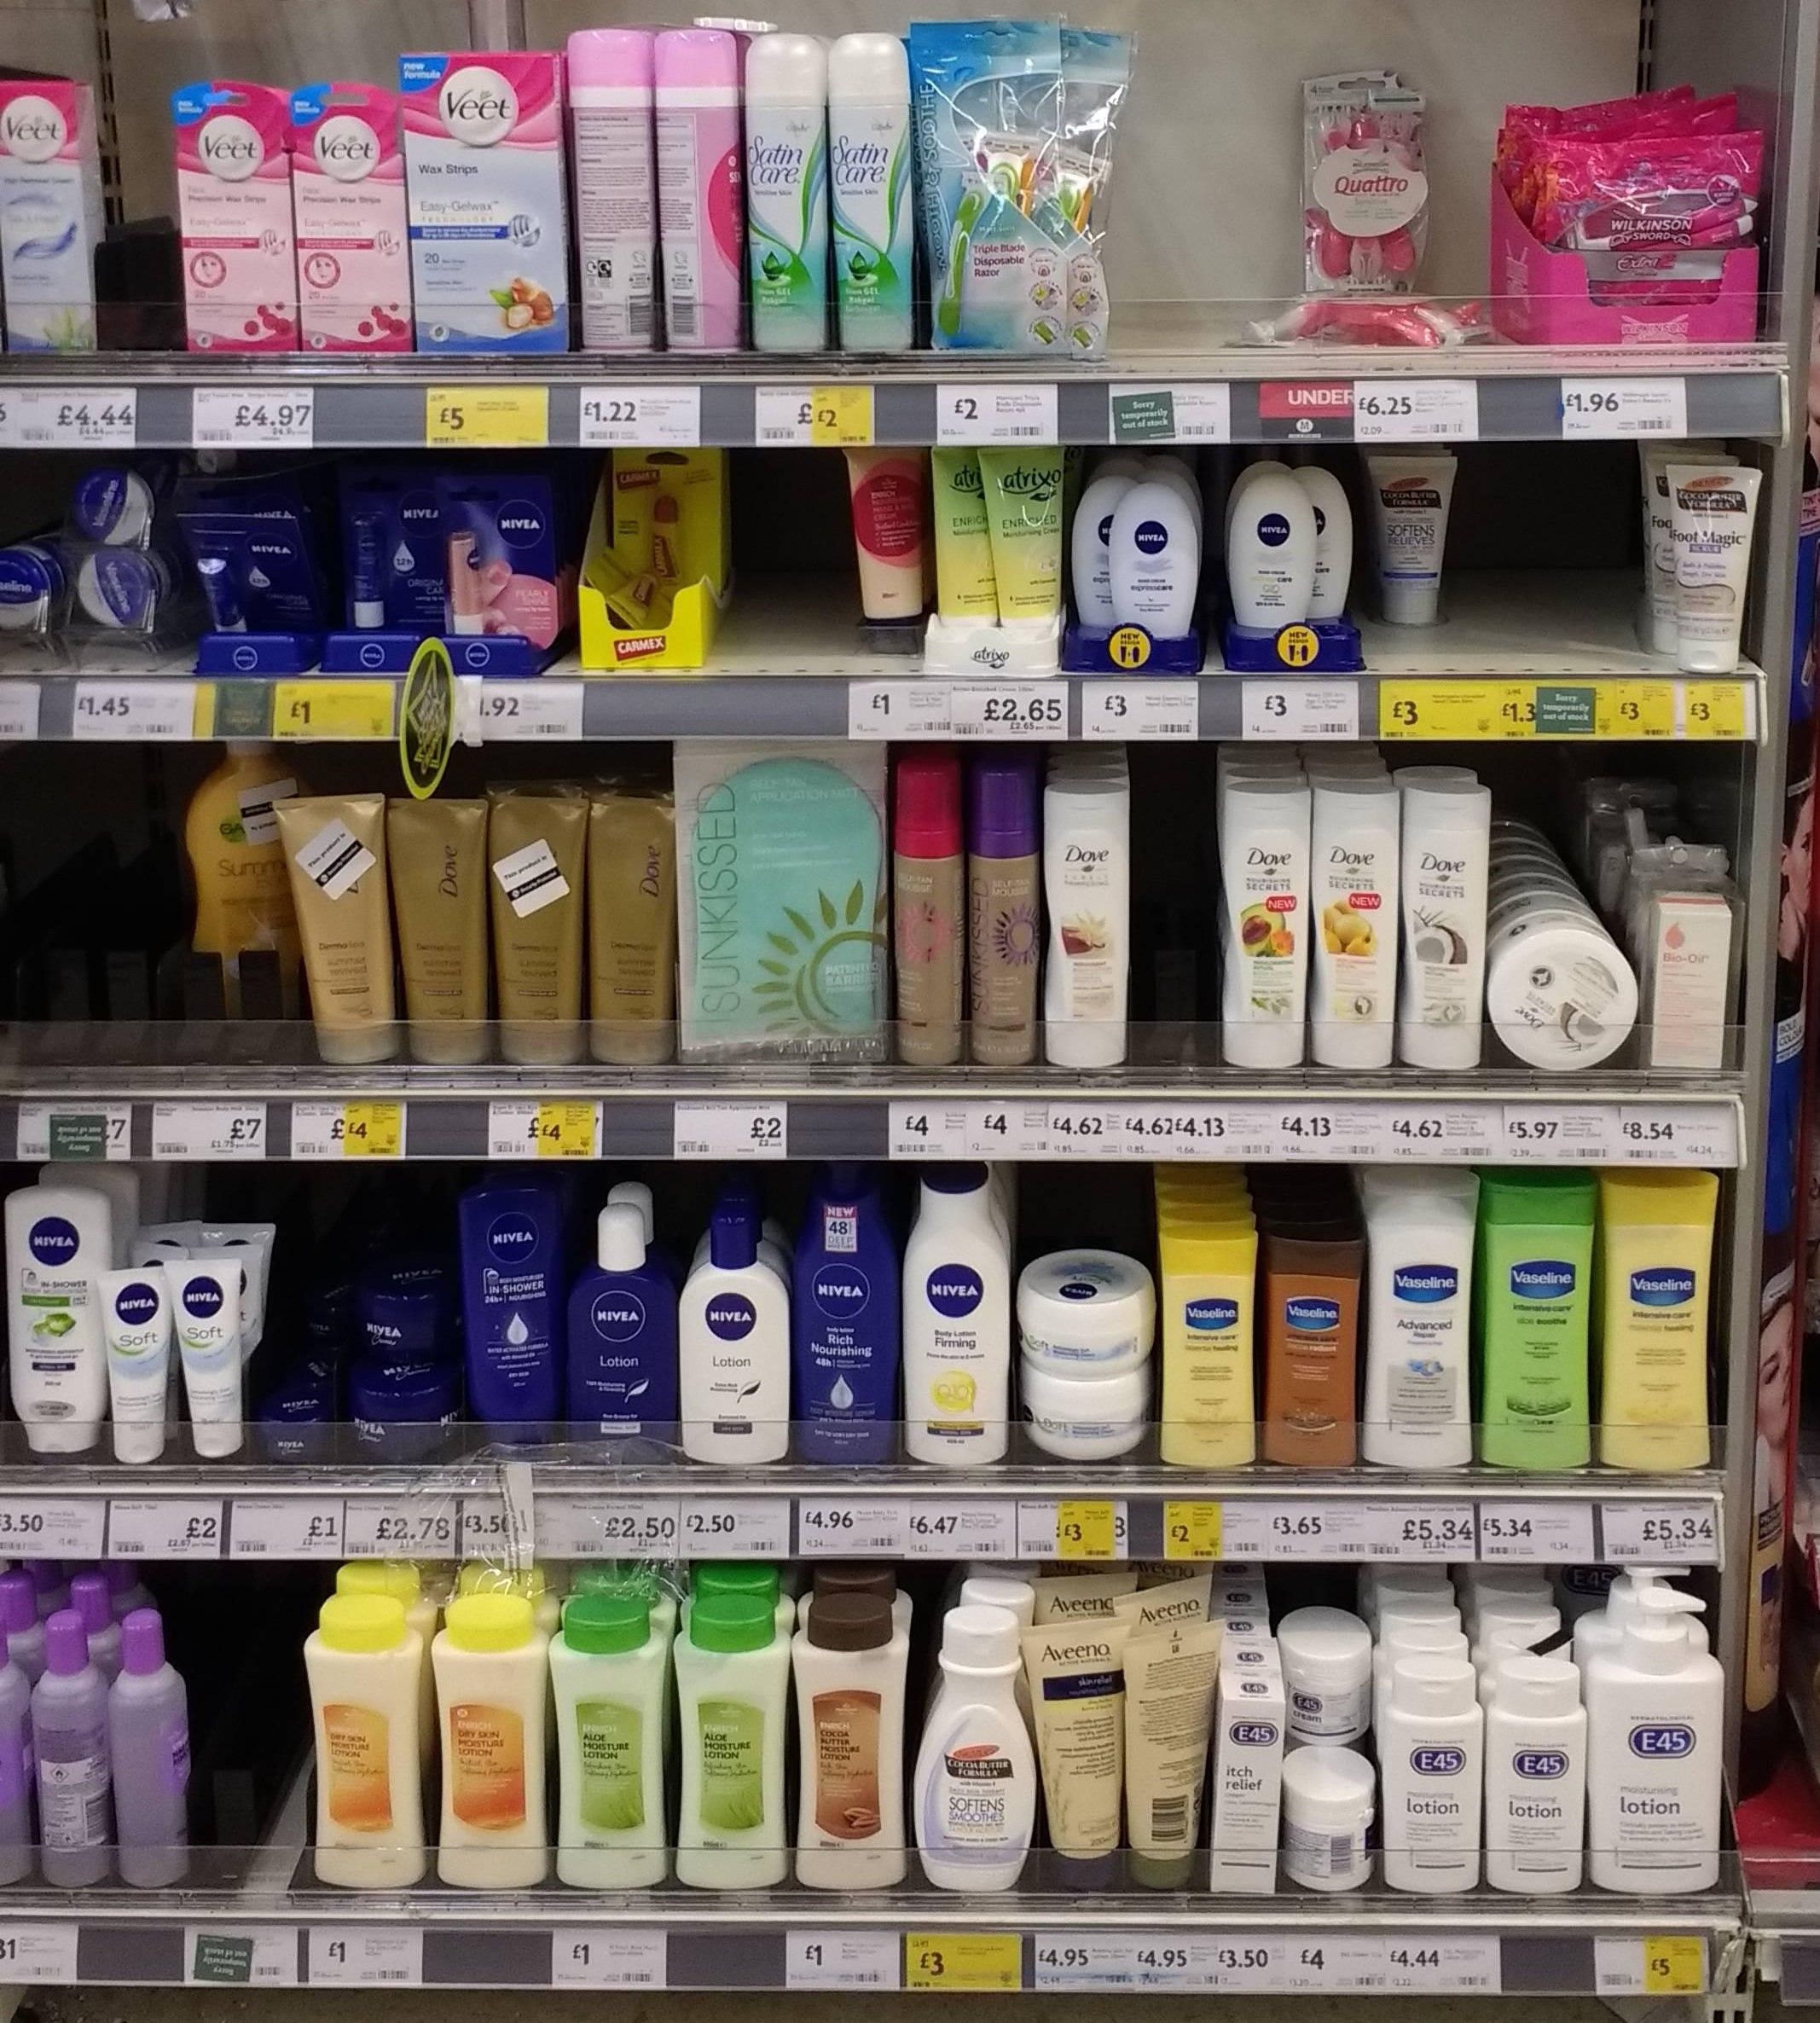empty: (14, 773, 158, 1059), (1124, 68, 1240, 349), (1493, 467, 1621, 650), (213, 1598, 295, 1874), (1140, 762, 1210, 1062), (738, 465, 831, 657)
misalignment: (1119, 1623, 1216, 1890), (1263, 279, 1495, 349), (271, 1285, 362, 1458)
